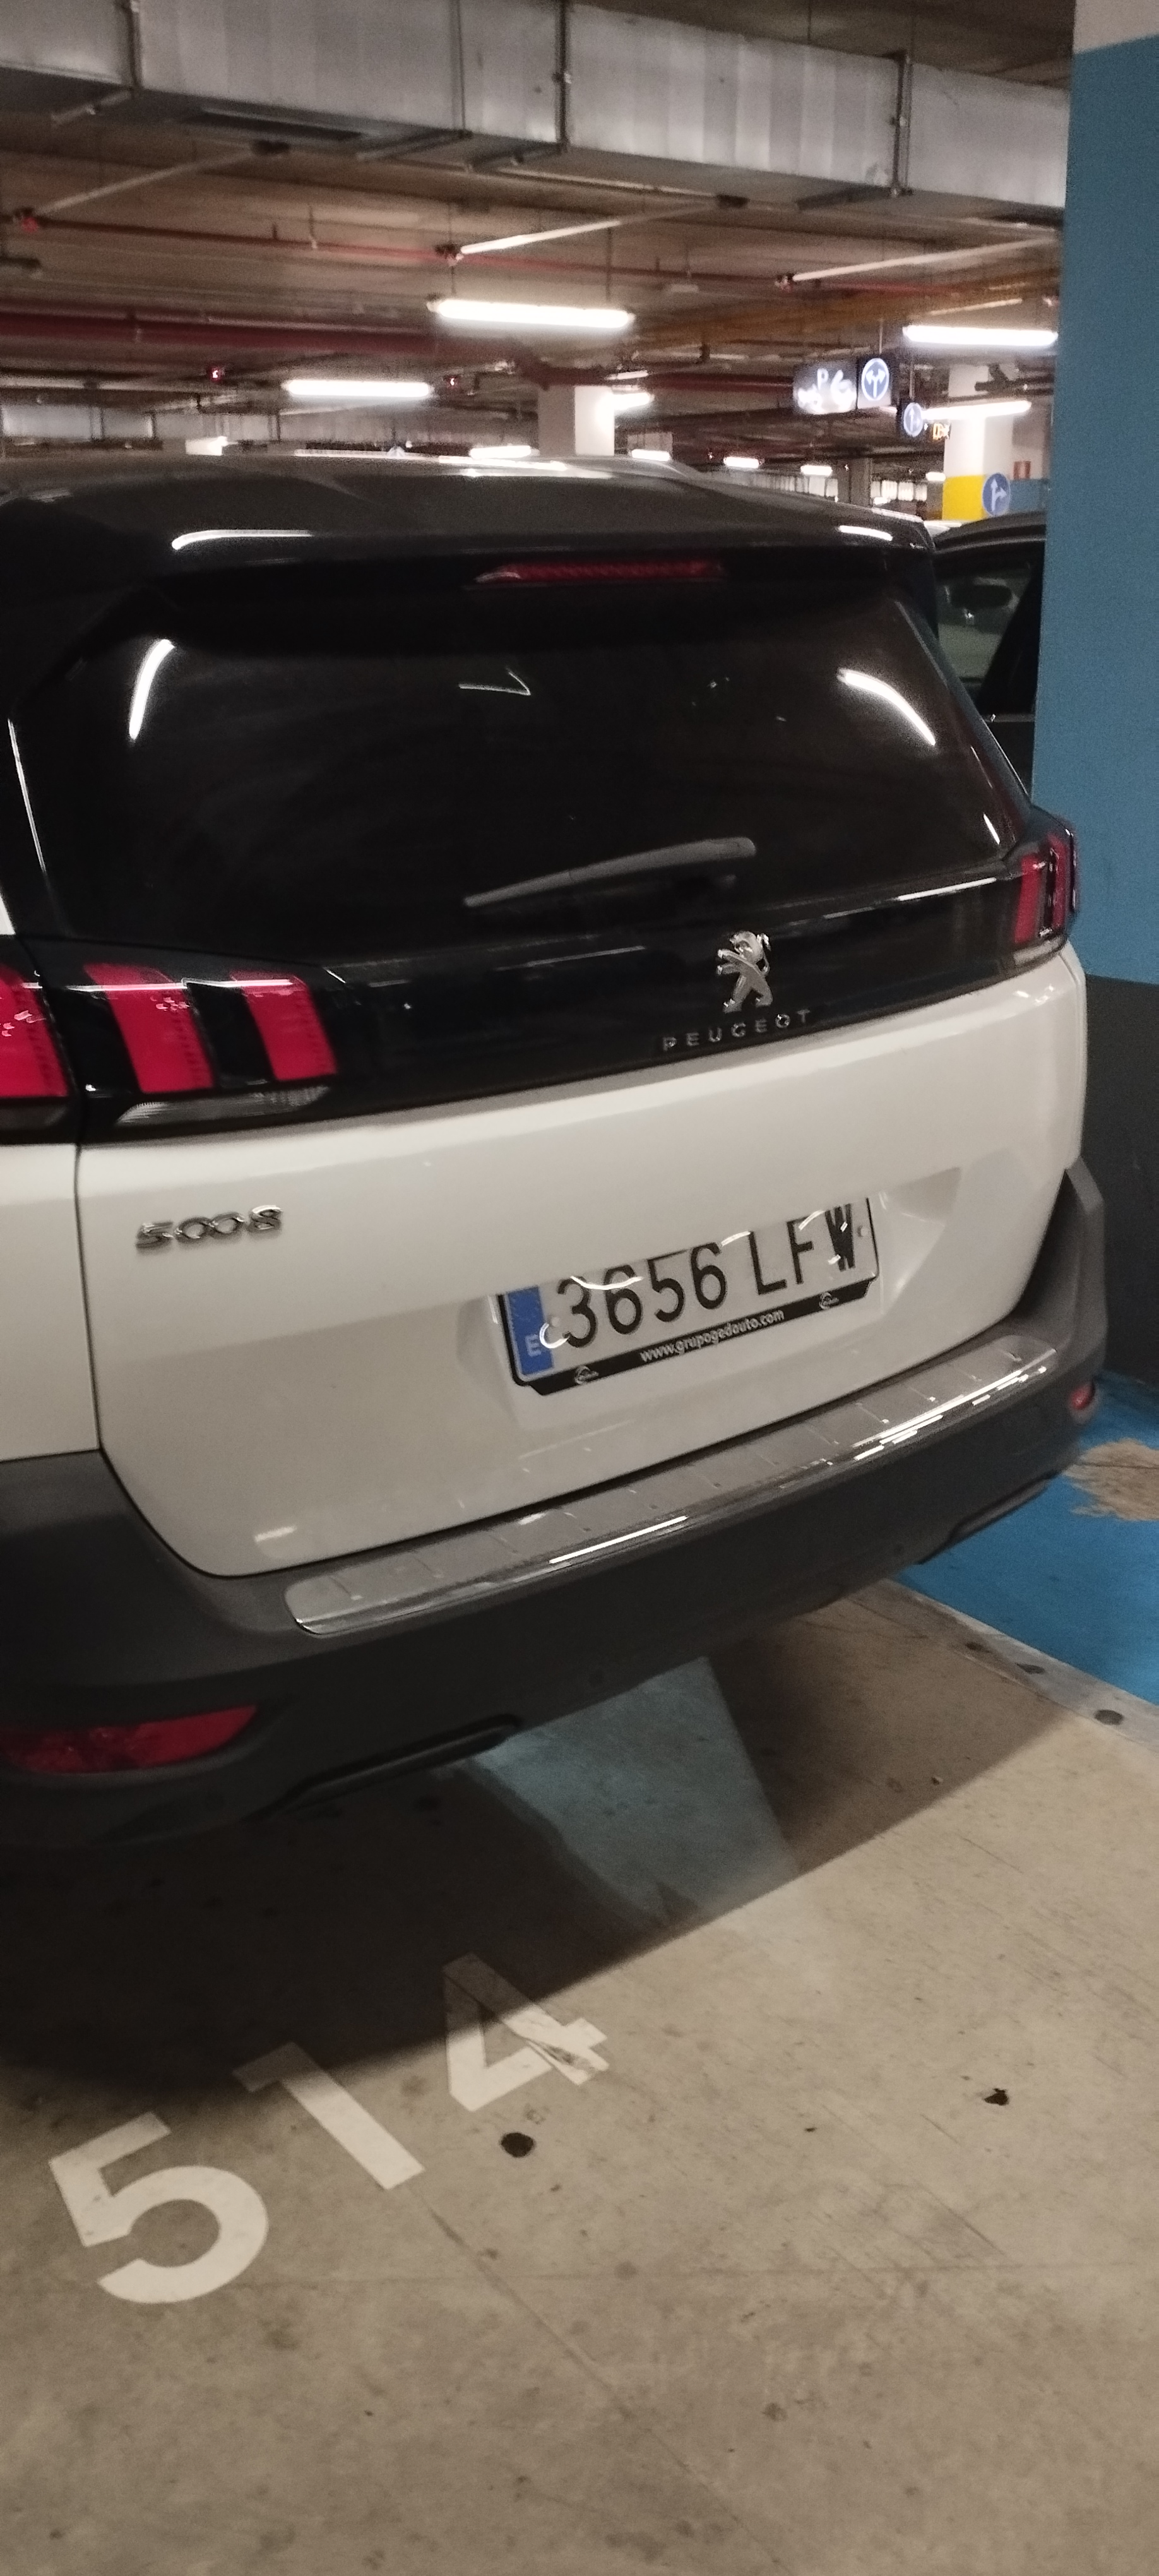Car: (0, 446, 1100, 1810)
Plate: (489, 1305, 877, 1400)
